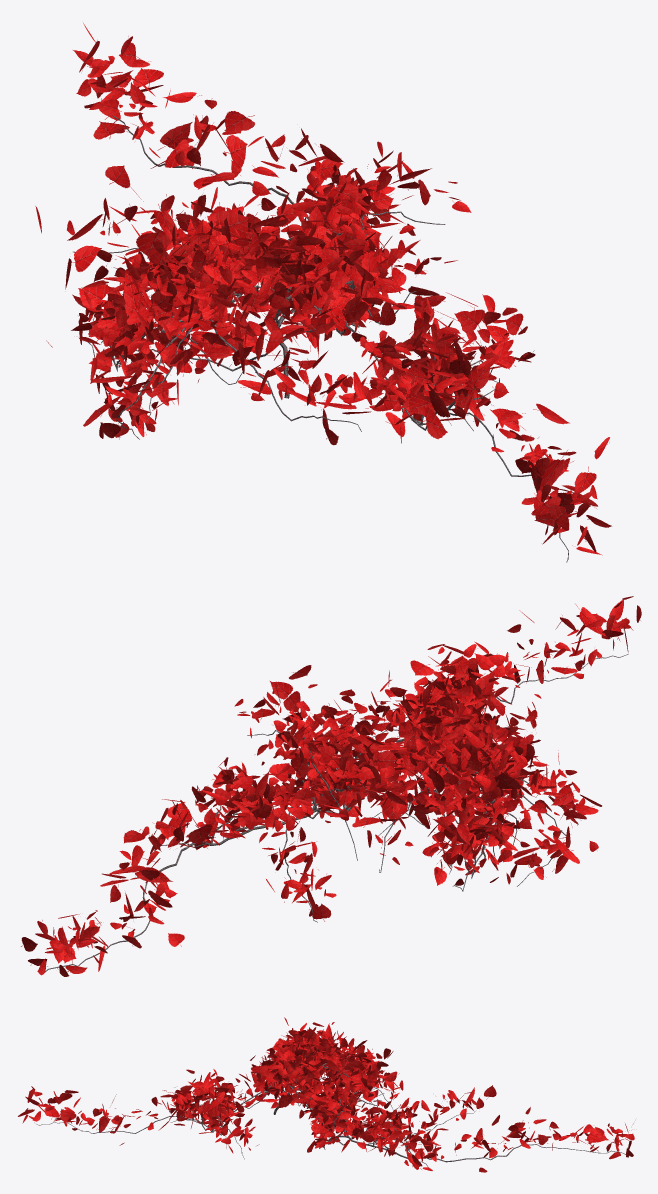
The model's file is Ivy_r.FBX.
3 renders of one model, top to bottom at view 1: azimuth 30°, elevation 25°; view 2: azimuth 150°, elevation 25°; view 3: azimuth 270°, elevation 25°, orthographic. The views are drawn at different scales.
Parts seen in each view (by area): view 1: IvyLeaf, IVY_Curve; view 2: IvyLeaf, IVY_Curve; view 3: IvyLeaf, IVY_Curve.
Part boxes in pixels (x1=…): IvyLeaf: x1=35, y1=23, x2=611, y2=555; IVY_Curve: x1=73, y1=115, x2=568, y2=562; IvyLeaf: x1=21, y1=596, x2=641, y2=976; IVY_Curve: x1=45, y1=654, x2=628, y2=972; IvyLeaf: x1=18, y1=1017, x2=634, y2=1172; IVY_Curve: x1=34, y1=1063, x2=628, y2=1166.
Bounding box in the file's own units: 58.42 × 28.46 × 137.
